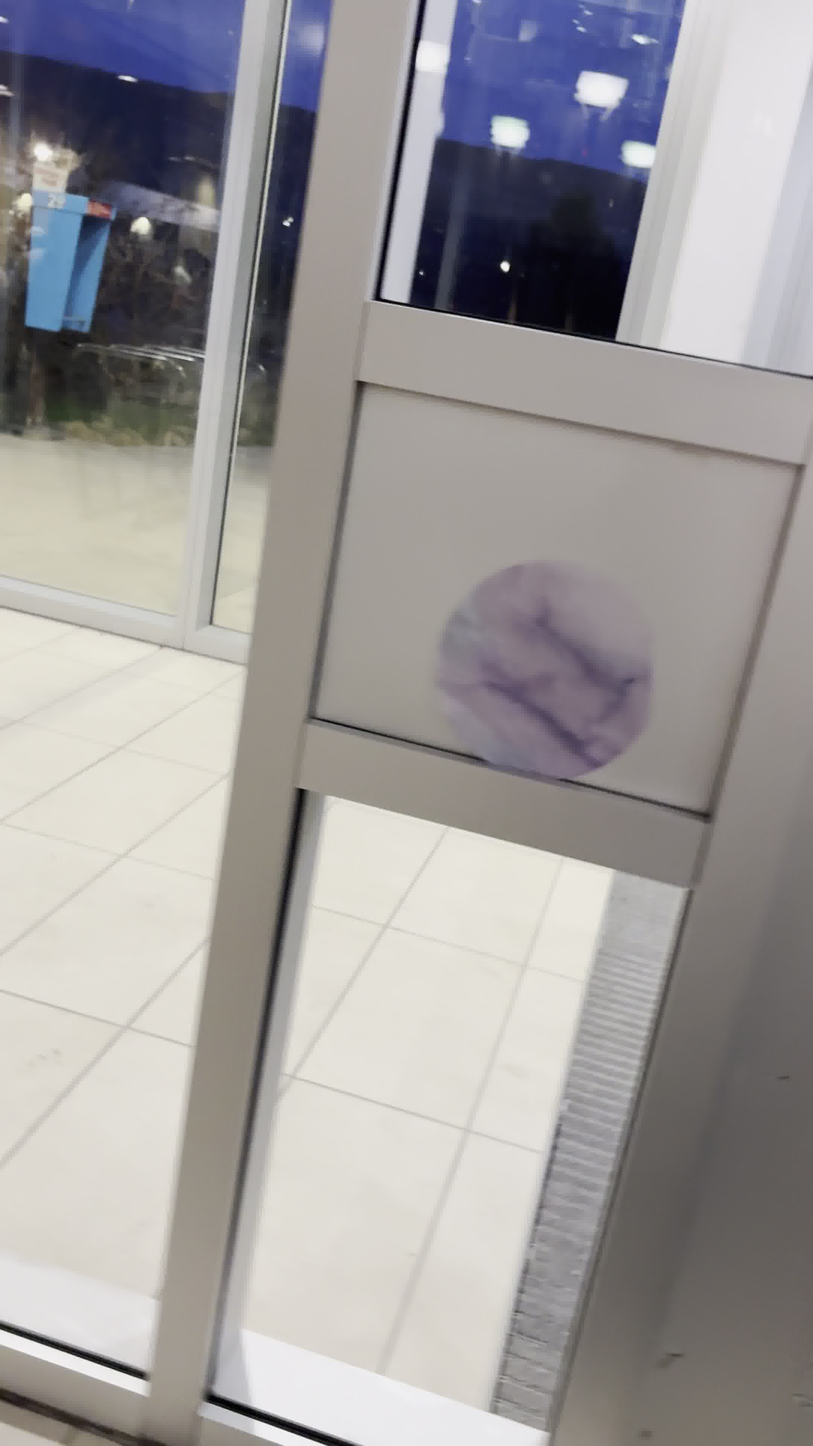Target: (430, 555, 658, 784)
